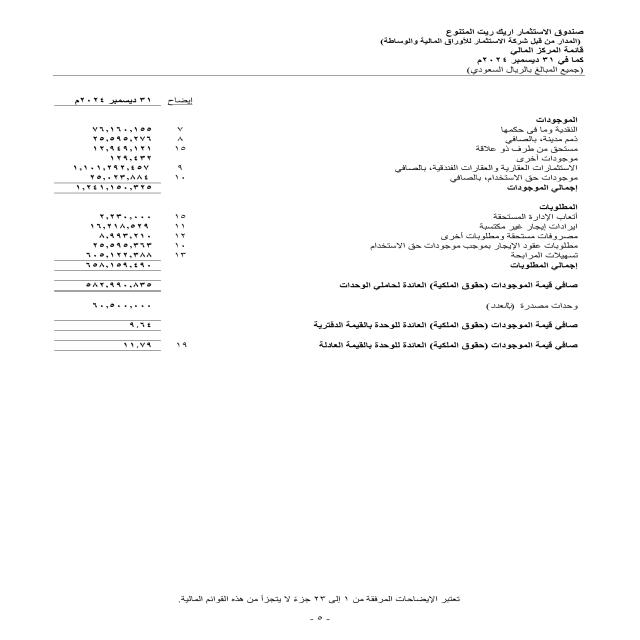financial_sheets: (492, 44, 590, 55)
table: (24, 90, 230, 360)
